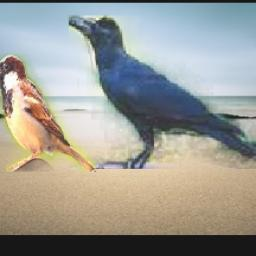Crow: (68, 16, 256, 170)
Sparrow: (0, 54, 95, 172)
